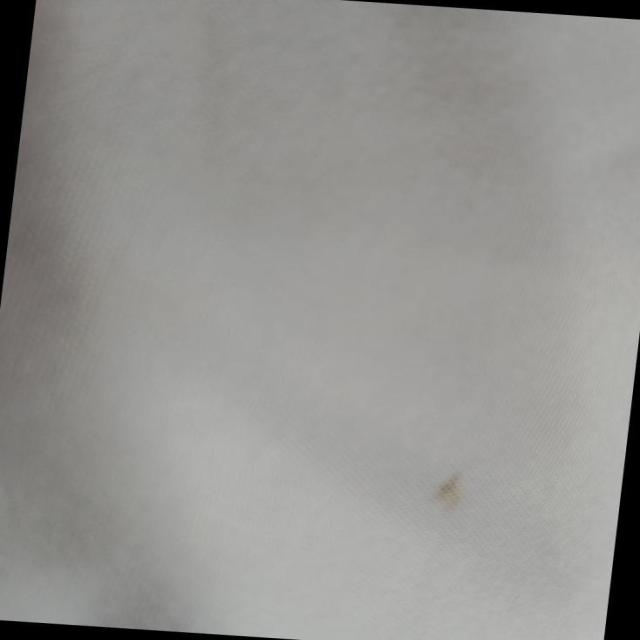stain: (421, 456, 488, 514)
